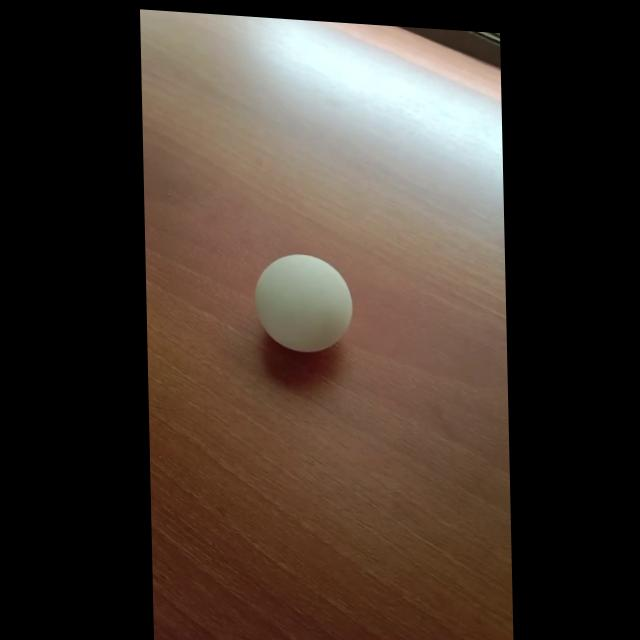white ball: (253, 250, 353, 356)
